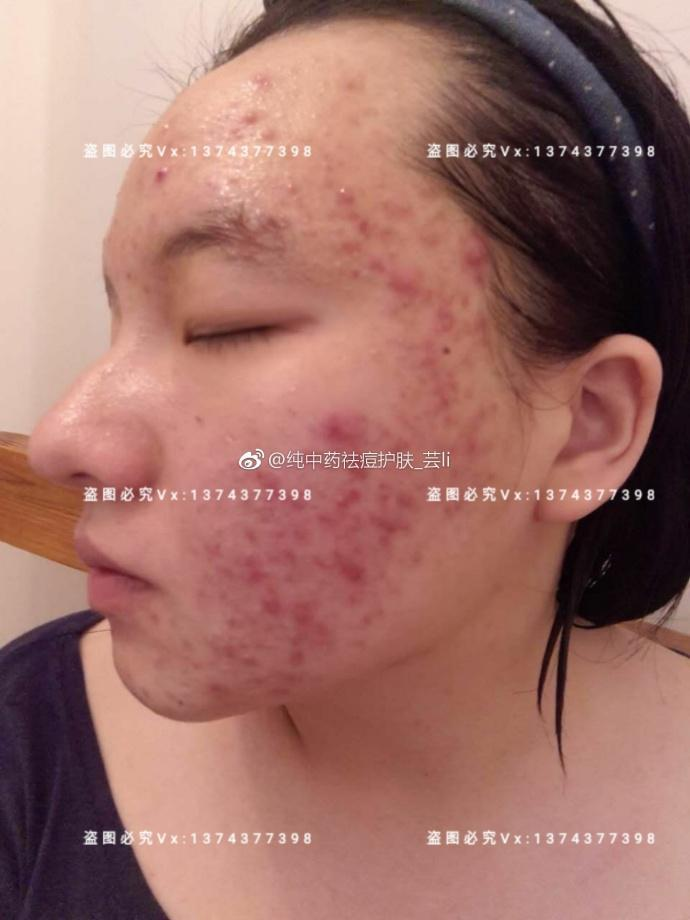fore: (227, 95, 276, 138), (369, 264, 429, 299), (231, 637, 282, 678), (416, 323, 457, 370), (294, 507, 339, 548), (327, 176, 372, 215), (414, 289, 465, 323), (206, 670, 249, 709), (376, 421, 420, 458), (359, 523, 400, 560), (414, 368, 459, 401), (247, 468, 294, 499), (321, 211, 374, 238), (141, 152, 182, 185), (263, 542, 304, 574), (308, 615, 341, 654), (328, 67, 372, 96), (280, 625, 308, 670), (256, 210, 301, 238), (425, 399, 461, 431), (223, 236, 263, 264), (331, 548, 357, 591), (212, 617, 237, 660), (451, 431, 484, 462), (337, 401, 363, 440), (359, 507, 398, 533), (463, 409, 500, 436), (159, 687, 190, 719), (337, 476, 367, 509), (195, 531, 228, 561), (236, 517, 267, 548), (390, 513, 423, 542), (373, 217, 406, 246), (355, 603, 383, 636), (316, 505, 351, 531), (396, 484, 427, 513), (401, 544, 431, 573), (277, 175, 311, 200), (280, 396, 305, 428), (231, 548, 259, 576), (187, 576, 214, 604), (451, 238, 484, 260), (374, 193, 414, 211), (267, 519, 294, 544), (361, 339, 388, 364), (208, 559, 233, 586), (292, 589, 316, 617), (243, 72, 278, 91), (335, 462, 376, 478), (174, 635, 197, 661), (339, 238, 361, 264), (247, 586, 284, 601), (376, 480, 394, 503), (142, 605, 163, 624)
